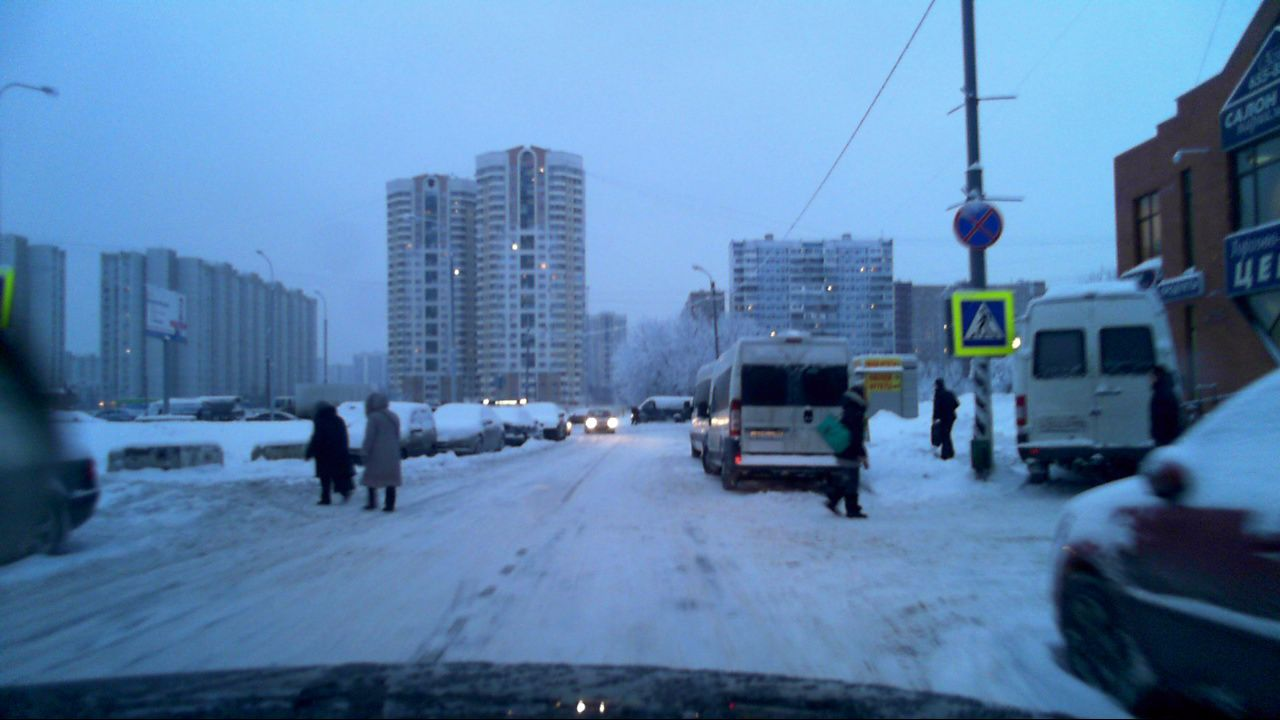No Parking: (955, 198, 1004, 251)
